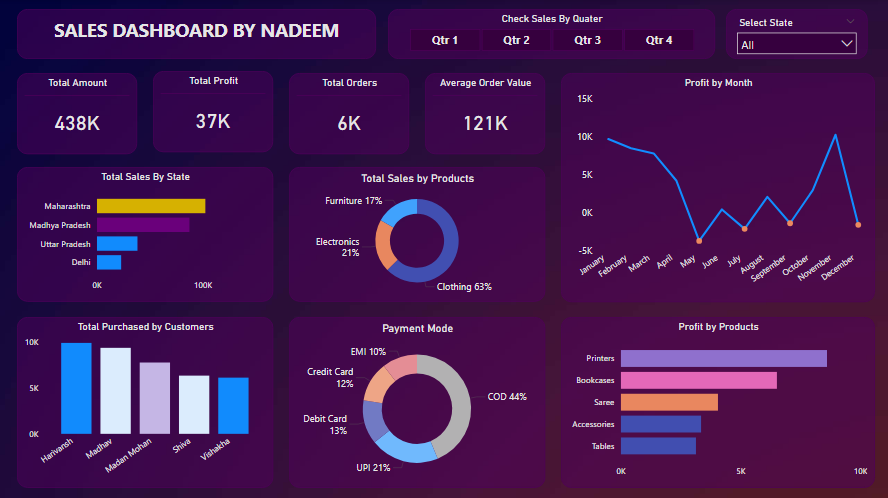

The dashboard page shown, as its layout file describes it:
{"tool":"powerbi","page":{"name":"Sales Dashboard","canvas":[1280,720],"ordinal":0},"visuals":[{"type":"textbox","box":[24.5,14.4,517,72],"z":0},{"type":"lineChart","title":"Profit by Month","fields":{"Category":["Orders.Order Date.Variation.Date Hierarchy.Month"],"Y":["Details.Profit"]},"box":[807.8,106.6,452.2,329.8],"z":1000},{"type":"barChart","title":"Profit by Products","fields":{"Category":["Details.Sub-Category"],"Y":["Details.Profit"]},"box":[807.8,457.9,452.2,246.2],"z":2000},{"type":"donutChart","title":"Payment Mode","fields":{"Y":["Details.Quantity"],"Category":["Details.PaymentMode"]},"box":[416.2,457.9,368.6,246.2],"z":3000},{"type":"donutChart","title":"Total Sales by Products","fields":{"Category":["Details.Category"],"Y":["Details.Quantity"]},"box":[416.2,241.9,368.6,194.4],"z":4000},{"type":"card","title":"Total Amount","fields":{"Values":["Details.Amount"]},"box":[24.5,106.1,172.8,116.6],"z":5000},{"type":"card","title":"Total Profit","fields":{"Values":["Details.Profit"]},"box":[220.3,103.7,172.8,116.6],"z":6000},{"type":"card","title":"Total Orders","fields":{"Values":["Details.Quantity"]},"box":[416.2,106.6,172.8,116.6],"z":7000},{"type":"card","title":"Average Order Value","fields":{"Values":["Details.AOV"]},"box":[612,106.6,172.8,116.6],"z":8000},{"type":"barChart","title":"Total Sales By State","fields":{"Category":["Orders.State"],"Y":["Details.Amount"]},"box":[24.5,241.9,368.6,194.4],"z":9000},{"type":"columnChart","title":"Total Purchased by Customers","fields":{"Category":["Orders.CustomerName"],"Y":["Details.Amount"]},"box":[24.5,457.9,368.6,246.2],"z":10000},{"type":"slicer","title":"Check Sales By Quater","fields":{"Values":["Orders.Order Date.Variation.Date Hierarchy.Quarter"]},"box":[558,14.4,470.9,72],"z":11000},{"type":"slicer","fields":{"Values":["Orders.State"]},"box":[1045.4,14.4,204.5,72],"z":12000}]}

Visuals, with their boxes in screenshot pixels (x1, y1, x2, y2), scaled from the page's 1280x720 canvas onto the 888x498 screenshot:
textbox: (17, 10, 376, 60)
"Profit by Month" lineChart: (560, 74, 874, 302)
"Profit by Products" barChart: (560, 317, 874, 487)
"Payment Mode" donutChart: (289, 317, 544, 487)
"Total Sales by Products" donutChart: (289, 167, 544, 302)
"Total Amount" card: (17, 73, 137, 154)
"Total Profit" card: (153, 72, 273, 152)
"Total Orders" card: (289, 74, 409, 154)
"Average Order Value" card: (425, 74, 544, 154)
"Total Sales By State" barChart: (17, 167, 273, 302)
"Total Purchased by Customers" columnChart: (17, 317, 273, 487)
"Check Sales By Quater" slicer: (387, 10, 714, 60)
slicer - Orders.State: (725, 10, 867, 60)
